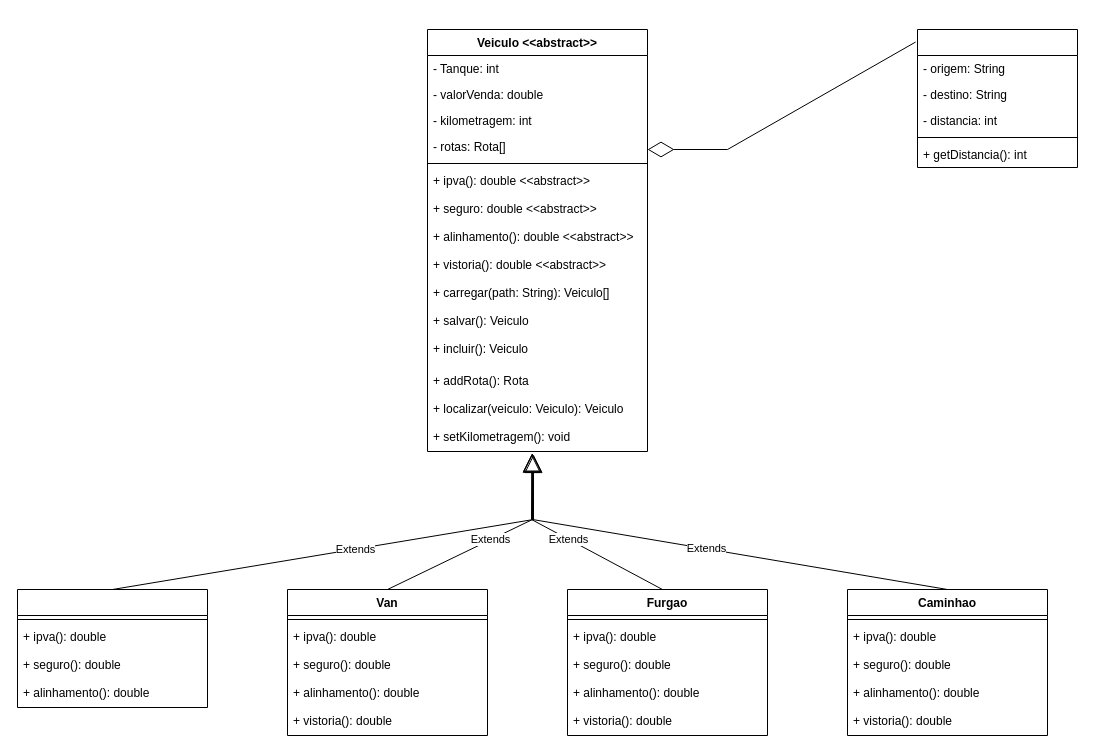
This 1095x756 diagram has some shape labels left out. Each missing label, with the box of its shape:
Carro: (16, 588, 208, 708)
Rota: (916, 28, 1078, 168)
